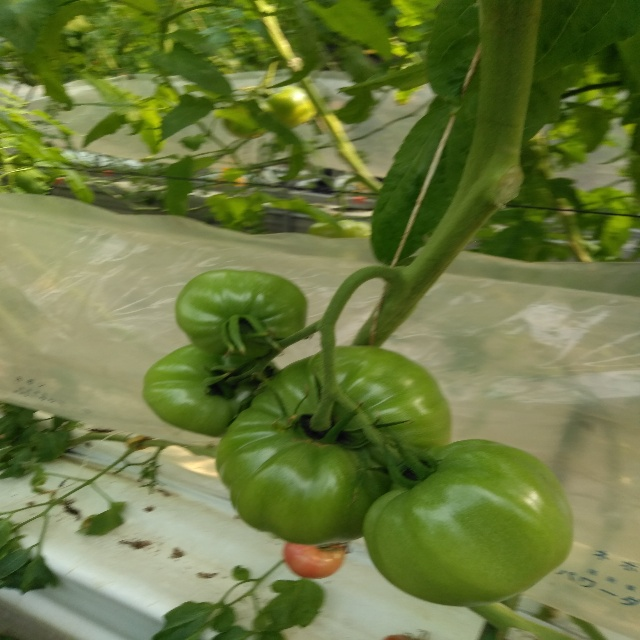b_green: (215, 346, 451, 546), (362, 438, 576, 607), (142, 342, 280, 438), (174, 269, 307, 358)
b_half_ripened: (283, 542, 344, 579)
